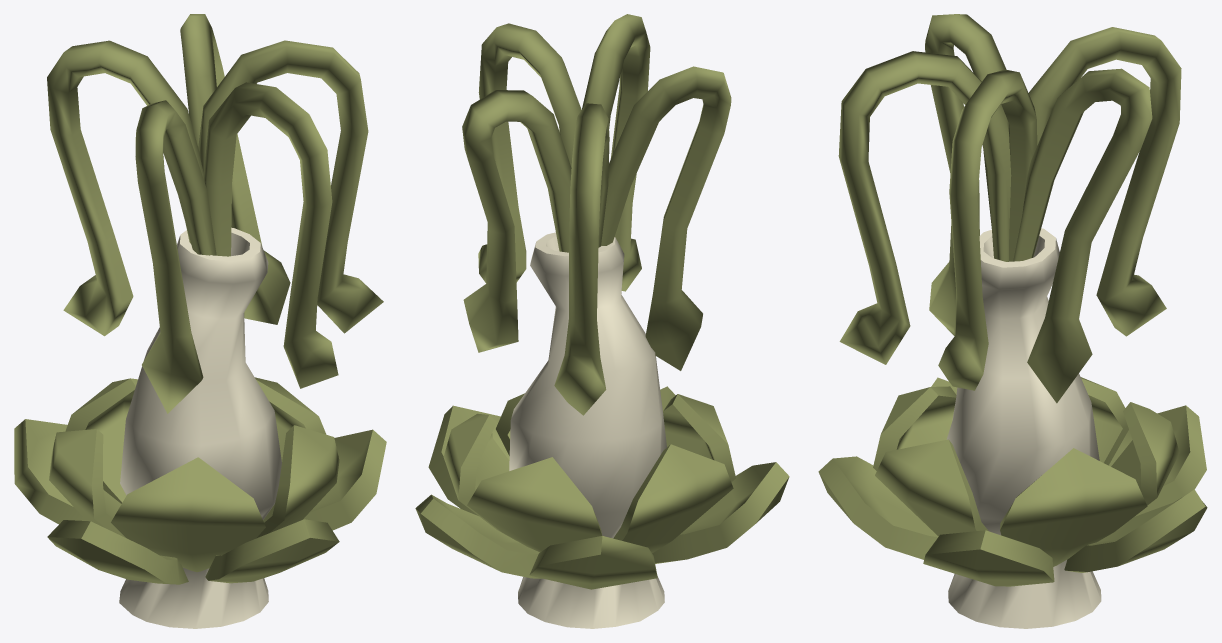
File: tree7.fbx
3 views of the same model, side by side, from view 1: azimuth 30°, elevation 25°; view 2: azimuth 150°, elevation 25°; view 3: azimuth 270°, elevation 25° (orthographic). The views are drawn at different scales.
Visible parts, largest first — view 1: CrownFlower01_1, CrownFlower02_1, TreeVase13_4; view 2: CrownFlower01_1, CrownFlower02_1, TreeVase13_4; view 3: CrownFlower01_1, CrownFlower02_1, TreeVase13_4.
Part boxes in pixels (box(x1,y1,x2,y2)): CrownFlower01_1: box(47, 14, 383, 413); CrownFlower02_1: box(14, 377, 386, 584); TreeVase13_4: box(119, 227, 281, 628); CrownFlower01_1: box(462, 14, 731, 415); CrownFlower02_1: box(415, 386, 789, 589); TreeVase13_4: box(509, 232, 666, 628); CrownFlower01_1: box(838, 14, 1181, 403); CrownFlower02_1: box(818, 377, 1207, 586); TreeVase13_4: box(946, 228, 1101, 628).
Bounding box in the file's own units: 11.52 × 18.29 × 11.54.
